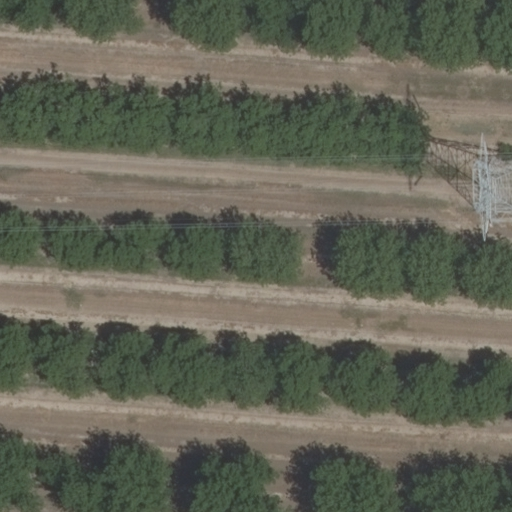TT: (426, 137, 511, 241)
